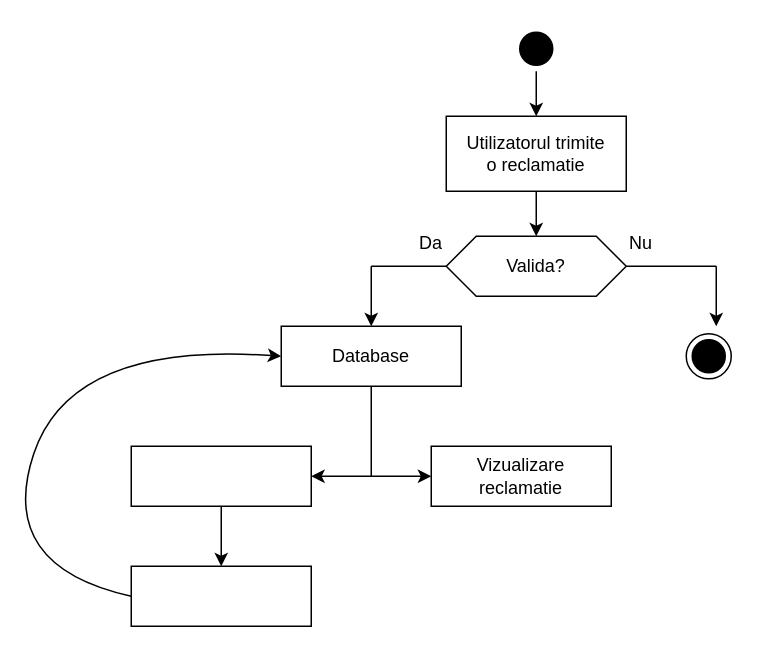
The diagram is 759 pixels wide and 653 high, and some of its shapes have lost their labels. The shapes that lost their labels are listed below. From the top down, each one's box as (x1, y1, x2, y2) in pixels, then its label:
(130, 445, 311, 506): Sortare reclamatii
(130, 565, 311, 626): Actualizare database
